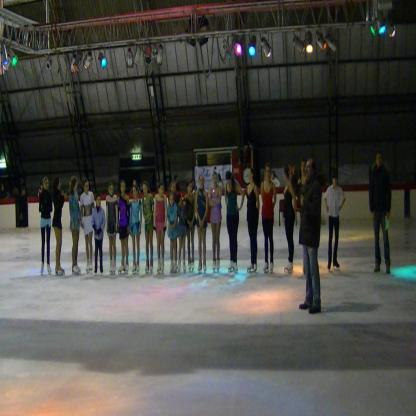face: (290, 163, 297, 180), (307, 162, 313, 177), (302, 162, 307, 174), (266, 168, 271, 179), (284, 169, 288, 181), (45, 180, 50, 189), (378, 155, 382, 166), (85, 184, 89, 194), (97, 197, 101, 207), (110, 186, 114, 196), (144, 185, 148, 195), (161, 186, 165, 196), (173, 183, 177, 193), (171, 196, 175, 206), (189, 184, 193, 194), (214, 175, 218, 185), (122, 185, 126, 194), (200, 178, 204, 187), (134, 189, 138, 197), (249, 171, 253, 179), (334, 176, 338, 184), (228, 180, 233, 186), (75, 180, 78, 189), (58, 181, 61, 189), (180, 196, 183, 203), (272, 172, 275, 177), (193, 182, 195, 187)
